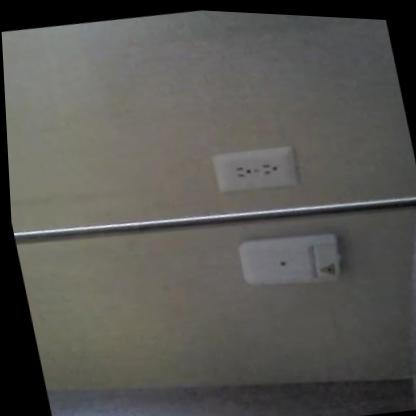OUTLET: (210, 140, 300, 196)
